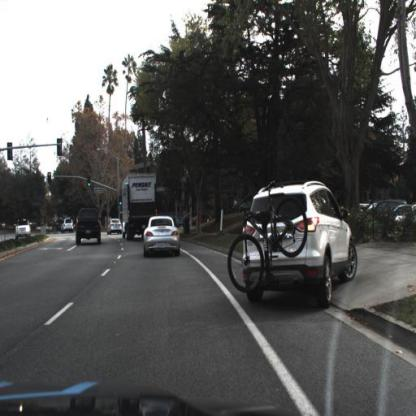car: (230, 179, 358, 303), (143, 212, 183, 260), (76, 204, 103, 248), (13, 217, 33, 242), (58, 216, 74, 239), (60, 216, 74, 234), (108, 219, 122, 237)
trafficLight-Green: (85, 177, 93, 191), (88, 173, 94, 188)
trafficLight-RedLeft: (47, 172, 53, 187)
truck: (120, 172, 158, 242)
